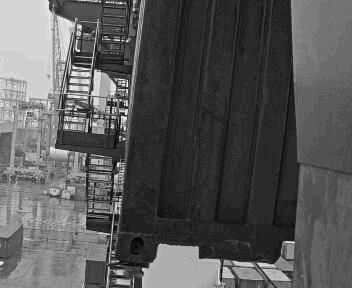twist_lock_1: (148, 175, 198, 209)
